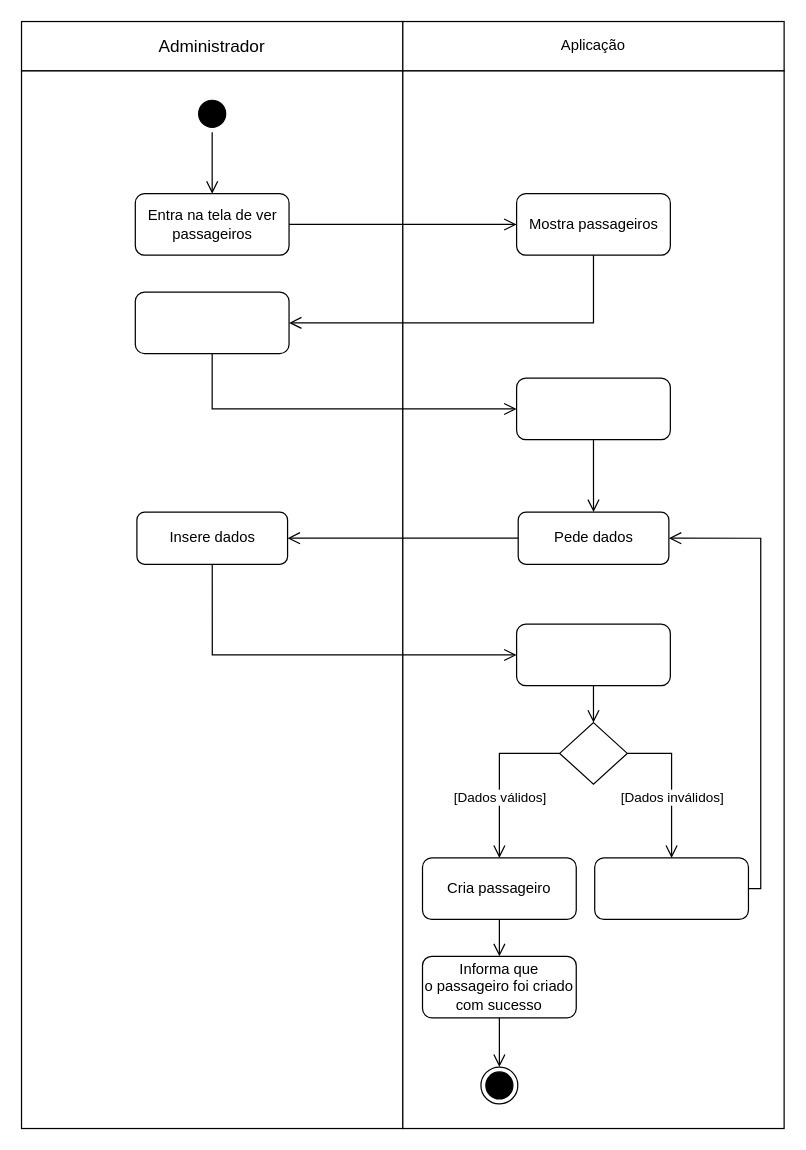
Image size: 806x1150. Some labels were removed from this diagram. The shapes that lost their labels are listed below. From the top down, each one's centre as x and y in pixels, then its label:
At (x=211, y=322): "Escolhe criar passageiro".
At (x=592, y=408): "Abre tela de criar passageiro".
At (x=592, y=654): "Valida dados".
At (x=670, y=888): "Informa que os dados são inválidos".
